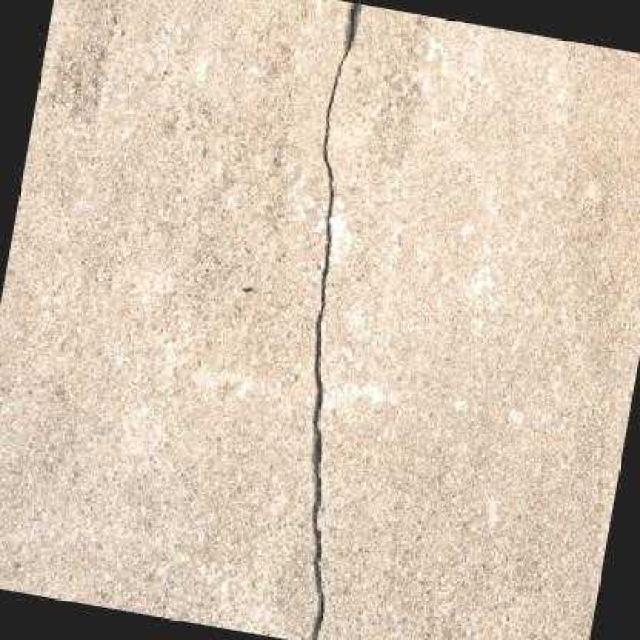D00: (310, 1, 360, 640)
